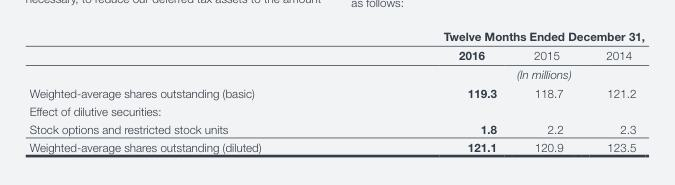table: (28, 29, 644, 153)
table column: (28, 29, 351, 153), (351, 29, 514, 153), (514, 29, 584, 153), (584, 29, 644, 153)
table column header: (28, 29, 644, 82)
table projected row header: (28, 101, 644, 119)
table row: (28, 45, 644, 64), (28, 82, 644, 101), (28, 64, 644, 82), (28, 101, 644, 119), (28, 119, 644, 137), (28, 29, 644, 45), (28, 137, 644, 153)
table spanning cell: (351, 64, 644, 82), (351, 29, 644, 45)
